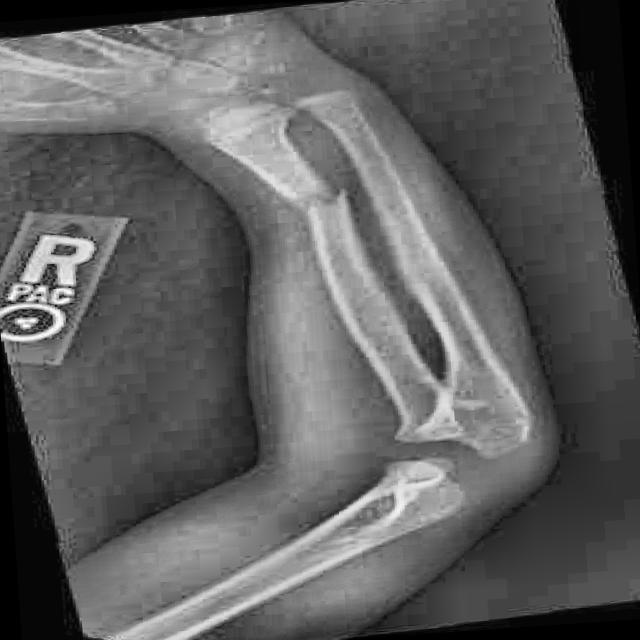forearm fracture: (252, 165, 421, 263)
